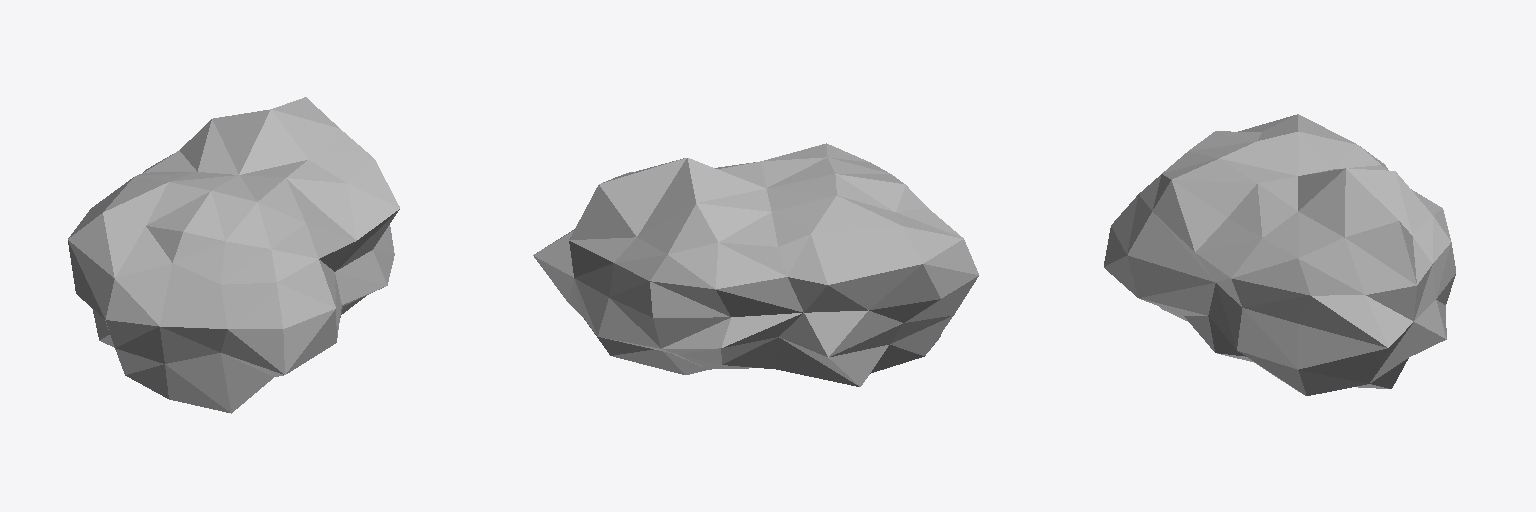
File: cloud.obj
3 renders of one model, left to right at view 1: azimuth 30°, elevation 25°; view 2: azimuth 150°, elevation 25°; view 3: azimuth 270°, elevation 25°, orthographic.
Parts seen in each view (by area): view 1: pCube5_clouds; view 2: pCube5_clouds; view 3: pCube5_clouds.
Boxes of the visible parts, x1=… form: pCube5_clouds: x1=68, y1=97, x2=399, y2=413; pCube5_clouds: x1=533, y1=143, x2=978, y2=386; pCube5_clouds: x1=1104, y1=114, x2=1455, y2=395.
Size of the model in its own units: 124 by 72.75 by 105.